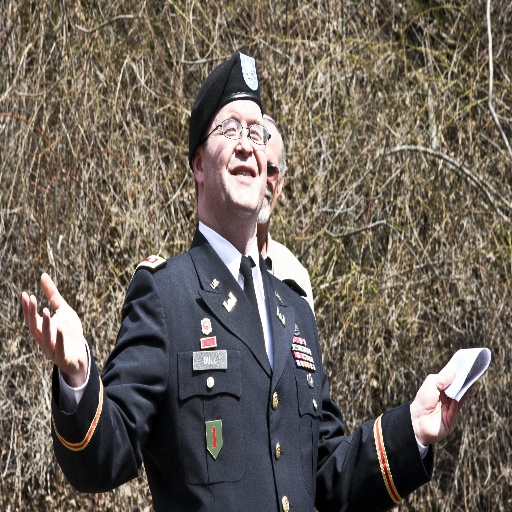hand: (17, 261, 89, 409), (411, 368, 469, 445)
